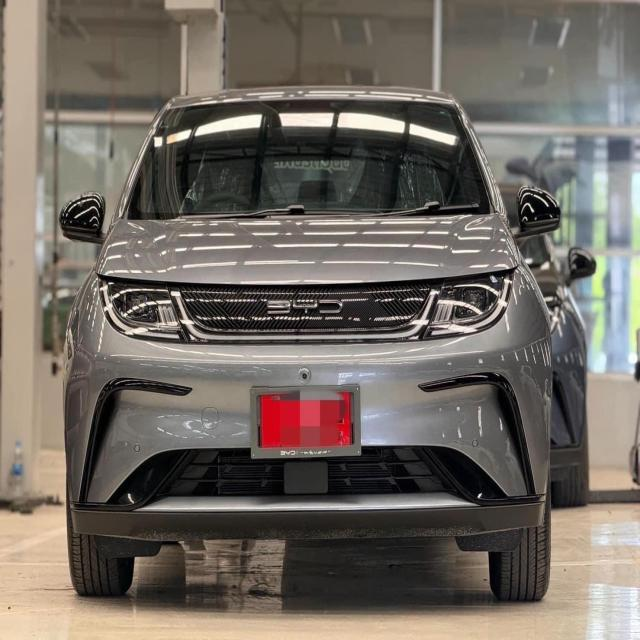Hatchback: (62, 85, 582, 605)
